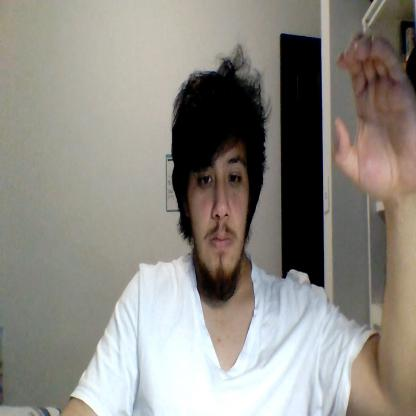C: (334, 34, 416, 197)
